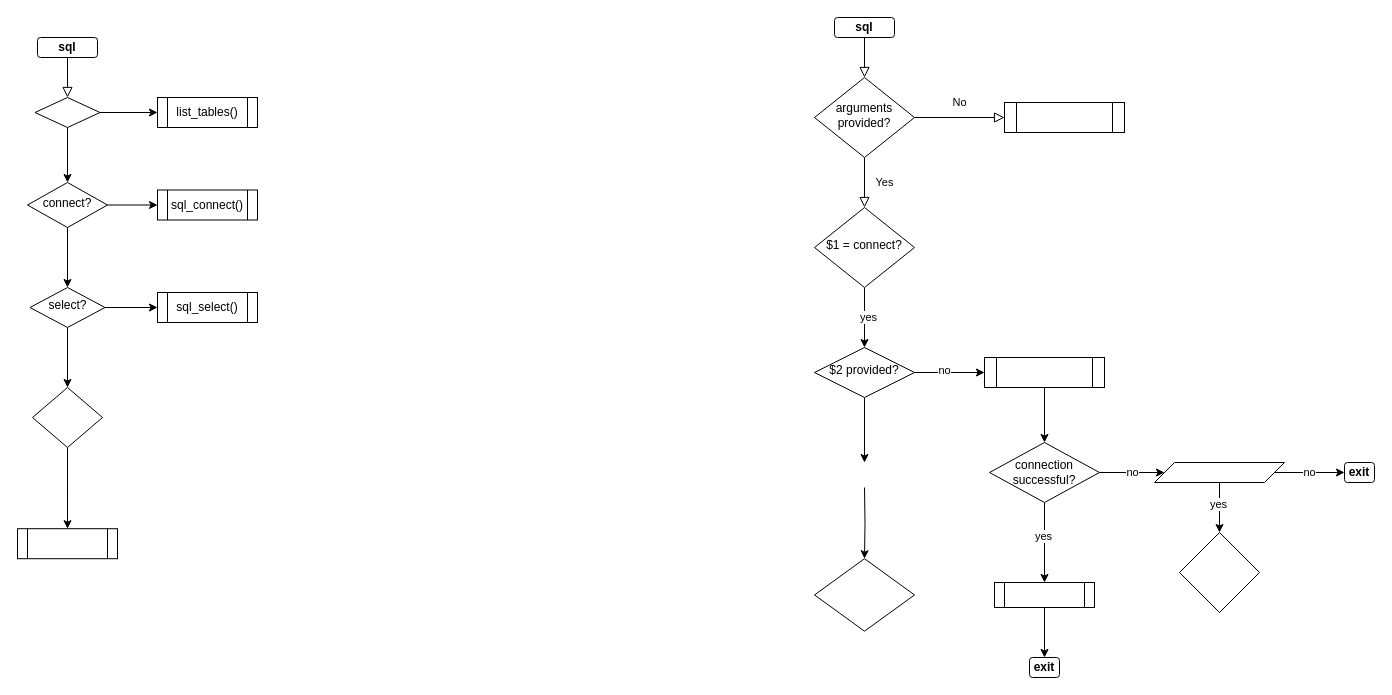
Some shapes in this 1392 by 695 pixel diagram are drawn without their labels. The shapes that lost their labels are listed below. From the top down, each one's centre as x and y in pixels, then its label:
point (67, 112): ls?
point (1064, 117): default_function()
point (1044, 372): test_connection()
point (1219, 472): want to connect?
point (67, 543): interpreter...
point (864, 594): attempt successful?
point (1044, 595): print_status()
